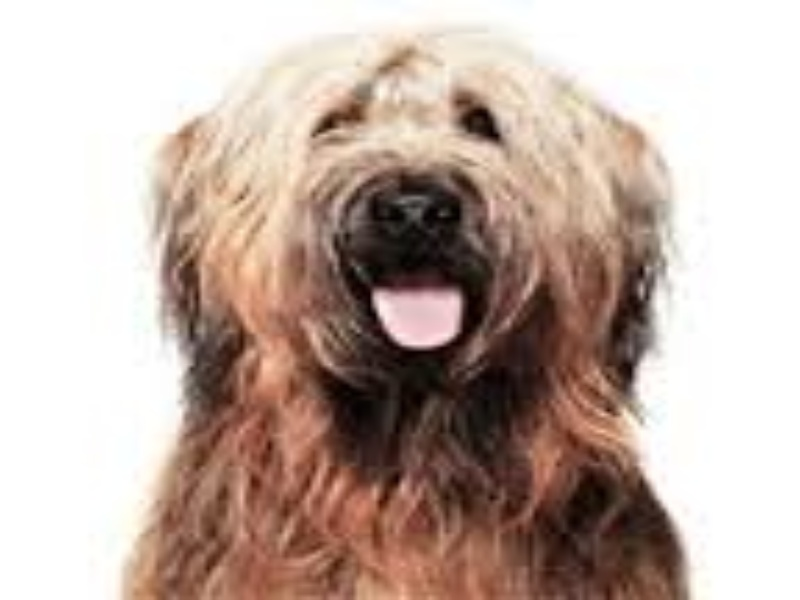dog: (123, 20, 731, 563)
